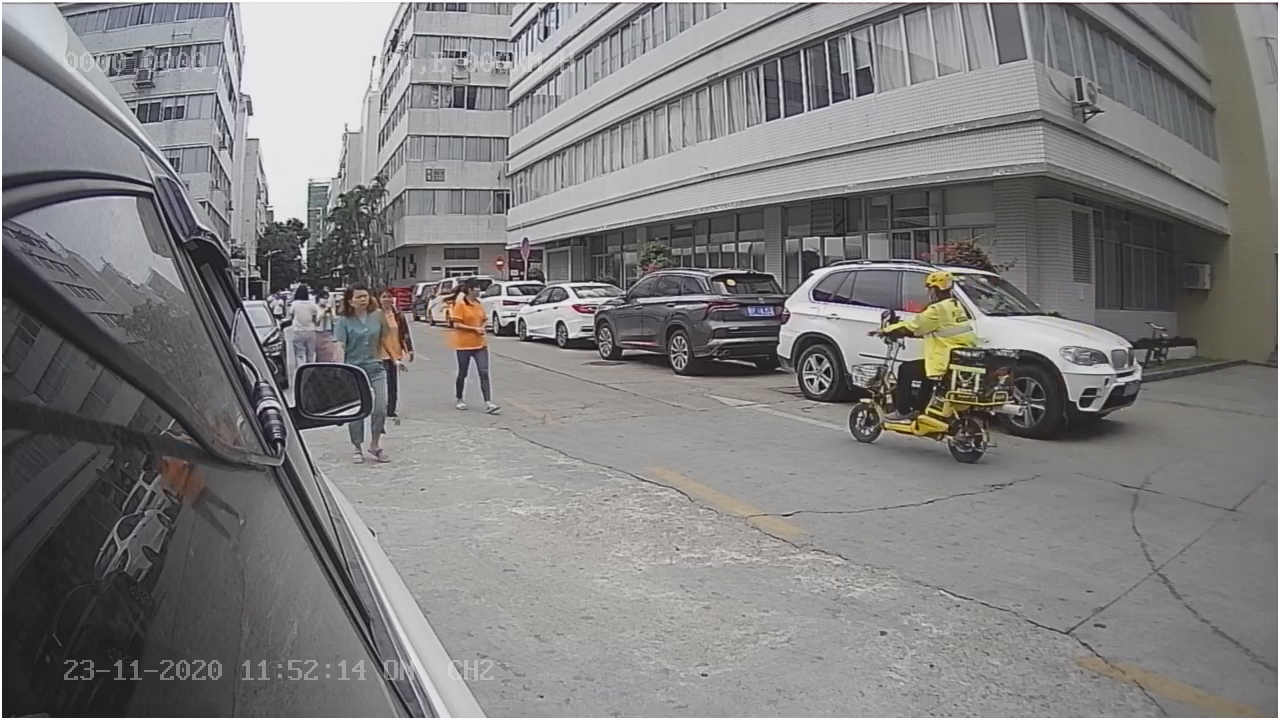person: (879, 268, 988, 346)
w: (445, 276, 509, 414)
